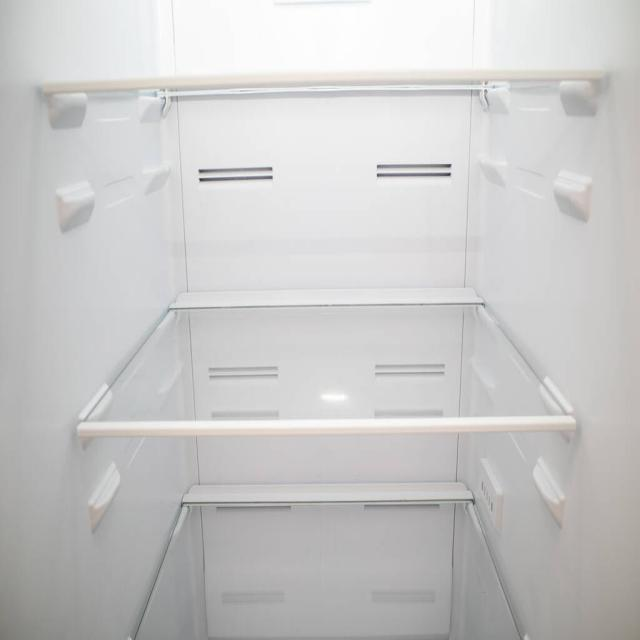fridge-space: (95, 257, 552, 418), (153, 470, 480, 640), (51, 12, 578, 70)
